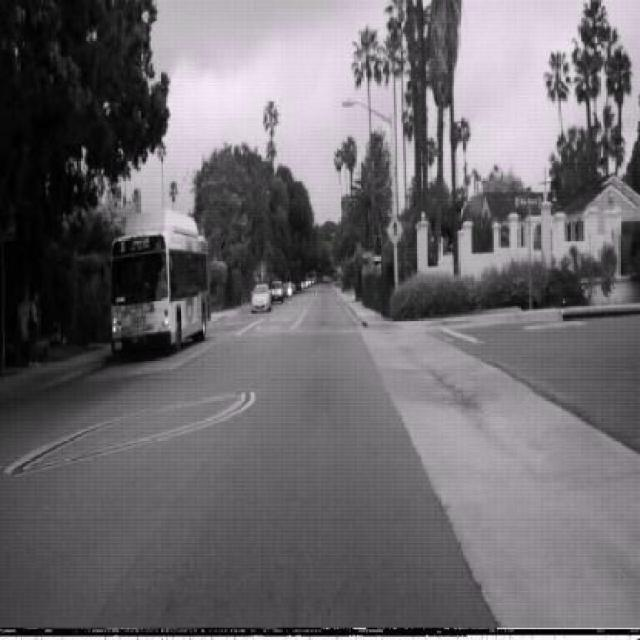pedestrianCrossing: (386, 214, 404, 248)
